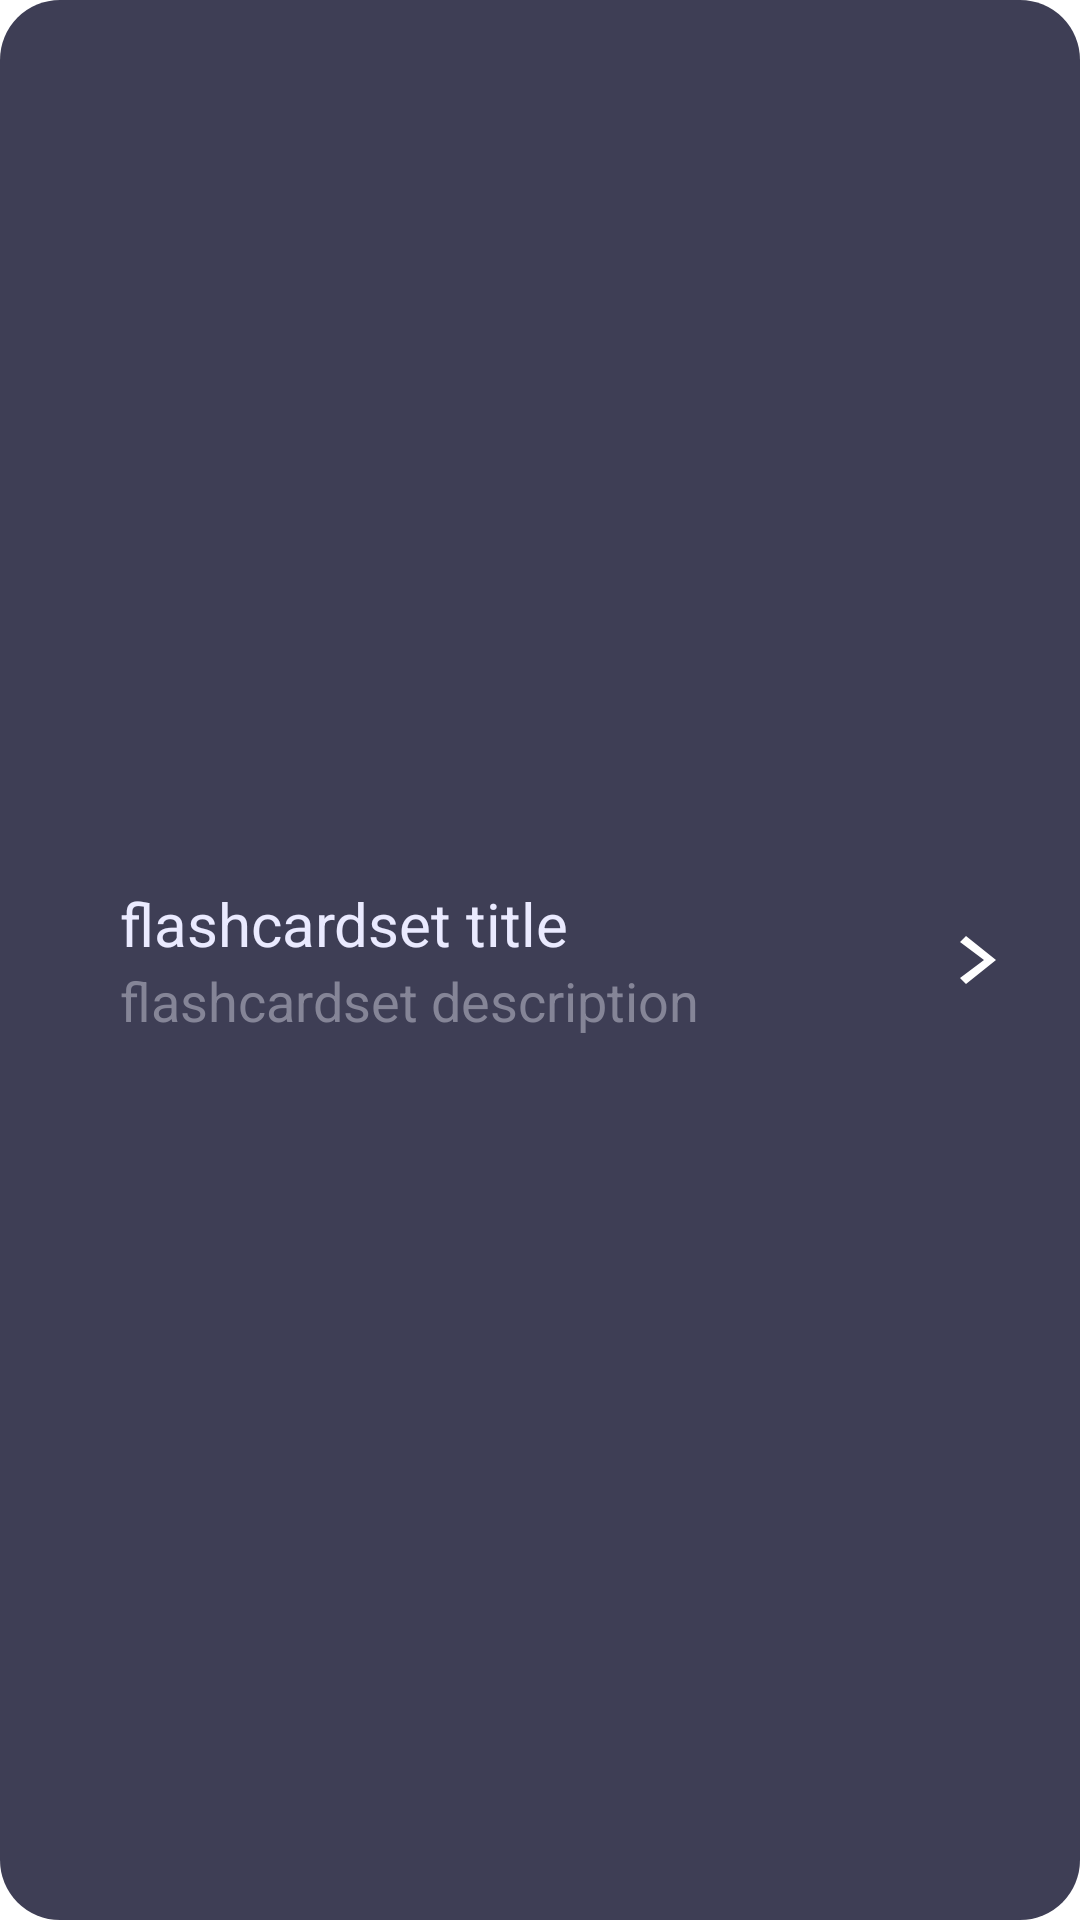

Icons on this 1080 × 1920 Android screen, each with its box as (x1, y1, x2, y2):
aa arrow right: (960, 936, 996, 984)
